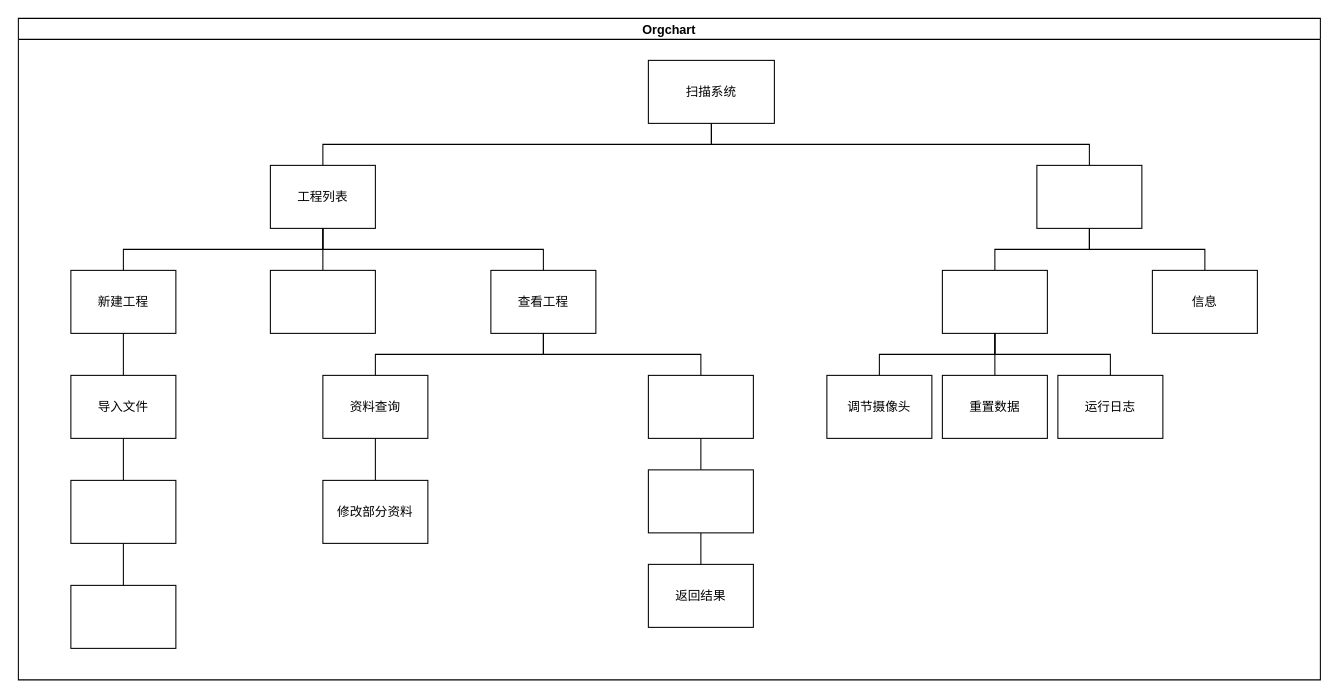
Image size: 1339x698. Some labels were removed from this diagram. The centre of each missing label's shape, as x and y in pixels:
导出二维码: (322,301)
开始工作: (700,406)
扫描开始: (700,501)
设定工程信息: (123,511)
设置: (1089,196)
调参: (994,301)
进入查看工程: (123,616)
